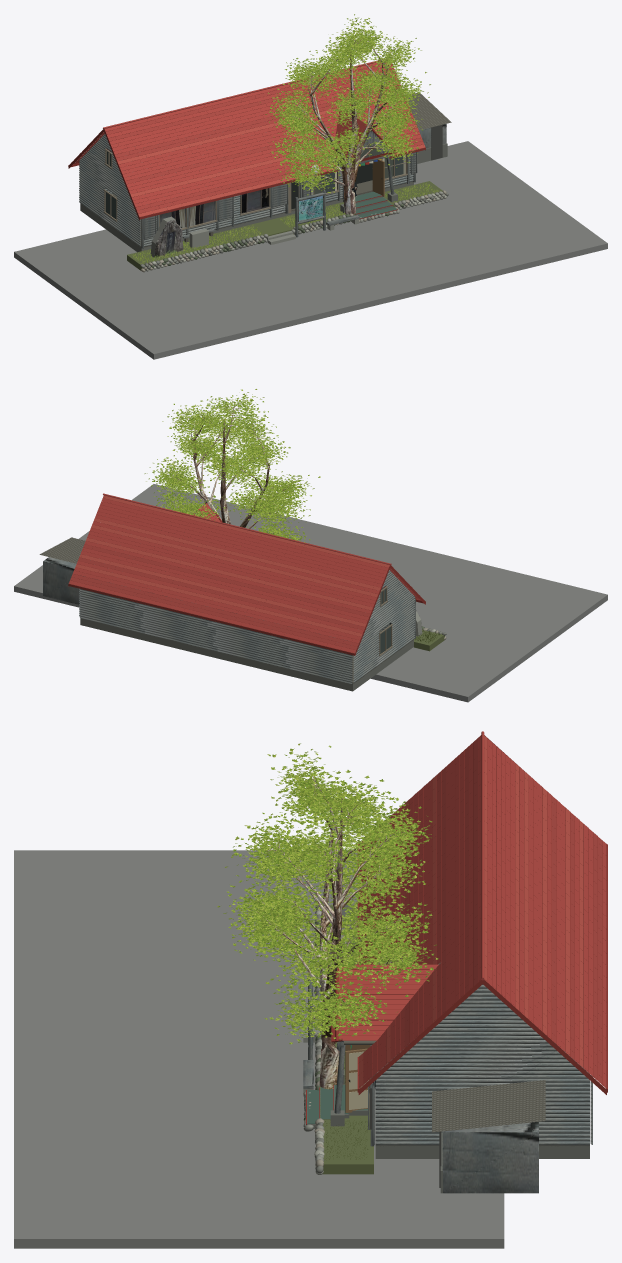
File: exterior.glb
The picture shows the model from 3 angles, top to bottom: view 1: azimuth 30°, elevation 25°; view 2: azimuth 150°, elevation 25°; view 3: azimuth 270°, elevation 25°; orthographic projection. The views are drawn at different scales.
Parts seen in each view (by area): view 1: Forecourt, Layered maple leaves, Raised grass verge, Grass blades, Concrete plinth, Roof course -1 02, Roof course -1 01, Roof course -1 03, Roof course -1 04, Roof course -1 05, Roof course -1 07, Roof course -1 06 (+29 smaller); view 2: Forecourt, Layered maple leaves, Concrete plinth, Utility annex confirmed front position, Roof course 1 18, Roof course 1 01, Roof course 1 07, Roof course 1 08, Roof course 1 11, Roof course 1 12, Roof course 1 19, Roof course 1 21 (+37 smaller); view 3: Forecourt, Layered maple leaves, Utility annex confirmed front position, Annex shallow dark roof, Porch roof intersecting main slope.001, Raised grass verge, Concrete plinth, Bent mature maple trunk, Roof course 1 23, Roof course 1 25, Roof course 1 12, Roof course 1 15 (+51 smaller).
Part boxes in pixels (bbox=[...]): Forecourt: bbox=[14, 141, 607, 359]; Layered maple leaves: bbox=[260, 14, 430, 198]; Raised grass verge: bbox=[127, 181, 442, 270]; Grass blades: bbox=[132, 183, 438, 263]; Concrete plinth: bbox=[80, 181, 413, 252]; Roof course -1 02: bbox=[107, 65, 393, 137]; Roof course -1 01: bbox=[106, 63, 392, 134]; Roof course -1 03: bbox=[108, 68, 394, 141]; Roof course -1 04: bbox=[109, 72, 396, 144]; Roof course -1 05: bbox=[111, 75, 397, 147]; Roof course -1 07: bbox=[113, 82, 400, 154]; Roof course -1 06: bbox=[112, 79, 398, 151]; Forecourt: bbox=[14, 484, 607, 702]; Layered maple leaves: bbox=[144, 389, 320, 542]; Concrete plinth: bbox=[80, 618, 413, 691]; Utility annex confirmed front position: bbox=[43, 557, 79, 604]; Roof course 1 18: bbox=[79, 554, 366, 626]; Roof course 1 01: bbox=[102, 498, 388, 570]; Roof course 1 07: bbox=[94, 518, 380, 590]; Roof course 1 08: bbox=[92, 521, 379, 593]; Roof course 1 11: bbox=[88, 531, 375, 603]; Roof course 1 12: bbox=[87, 534, 374, 606]; Roof course 1 19: bbox=[78, 557, 364, 630]; Roof course 1 21: bbox=[75, 564, 362, 636]; Forecourt: bbox=[14, 850, 504, 1248]; Layered maple leaves: bbox=[217, 743, 438, 1044]; Utility annex confirmed front position: bbox=[442, 1121, 538, 1193]; Annex shallow dark roof: bbox=[432, 1080, 545, 1132]; Porch roof intersecting main slope.001: bbox=[338, 964, 438, 1040]; Raised grass verge: bbox=[320, 905, 373, 1174]; Concrete plinth: bbox=[375, 1145, 589, 1158]; Bent mature maple trunk: bbox=[319, 798, 342, 1089]; Roof course 1 23: bbox=[588, 828, 592, 1076]; Roof course 1 25: bbox=[598, 837, 602, 1084]; Roof course 1 12: bbox=[538, 783, 542, 1031]; Roof course 1 15: bbox=[552, 796, 556, 1043].
Size of the model in its own units: 30 by 12.72 by 19.39.
53 materials, 8 textured.
